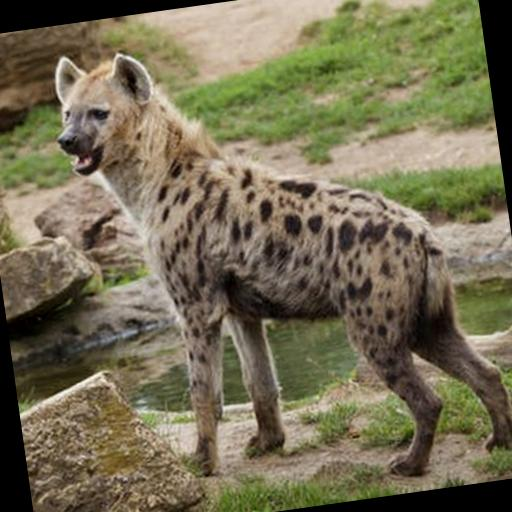hyenas: (6, 5, 505, 512)
